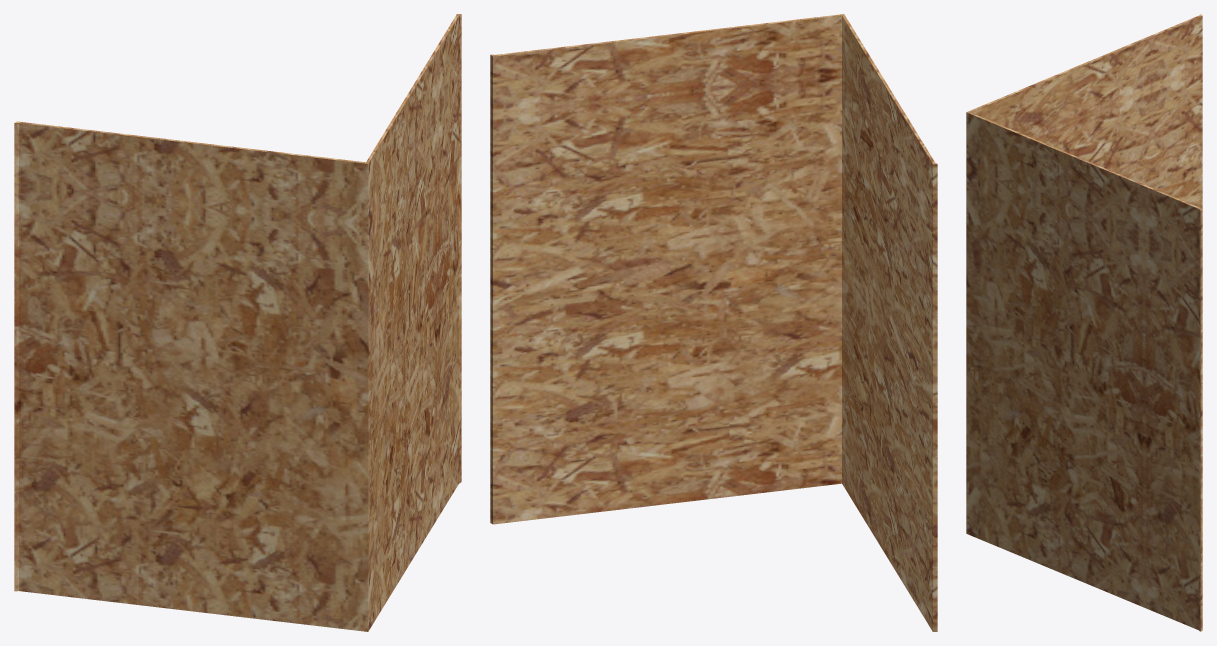
The model's file is corner_diag_120.dae.
3 renders of one model, left to right at view 1: azimuth 30°, elevation 25°; view 2: azimuth 150°, elevation 25°; view 3: azimuth 270°, elevation 25°, orthographic. The views are drawn at different scales.
Visible parts, largest first — view 1: Plane; view 2: Plane; view 3: Plane.
Boxes of the visible parts, x1,y1,x2,y2 form: Plane: (14,14,461,631); Plane: (490,14,937,631); Plane: (966,14,1202,631).
Size of the model in its own units: 1.2 by 0.61 by 1.2.
Materials: 1 (1 with a texture image).
